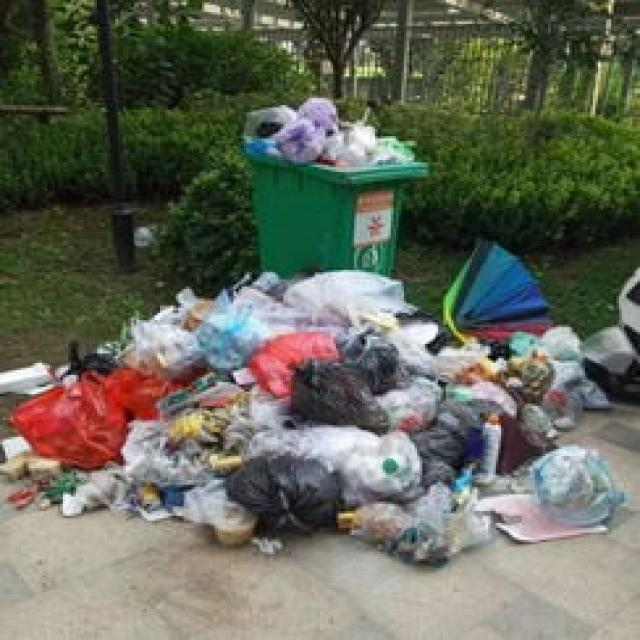garbage: (0, 236, 624, 568)
overflow: (238, 93, 428, 275)
